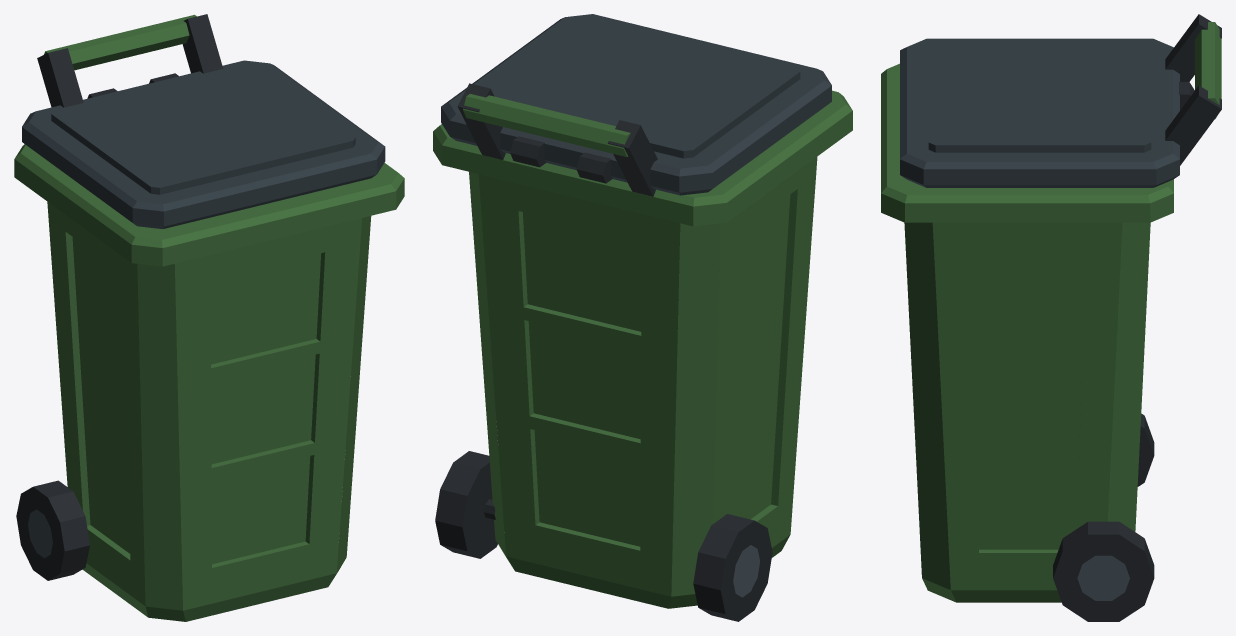
File: wheelie-bin.glb
3 views of the same model, side by side, from view 1: azimuth 30°, elevation 25°; view 2: azimuth 150°, elevation 25°; view 3: azimuth 270°, elevation 25° (orthographic). The views are drawn at different scales.
Visible parts, largest first — view 1: bin-body, lid-mesh, wheel-r-mesh; view 2: bin-body, lid-mesh, wheel-r-mesh, wheel-l-mesh; view 3: bin-body, lid-mesh, wheel-l-mesh, wheel-r-mesh.
Boxes of the visible parts, x1,y1,x2,y2 form: bin-body: [14, 14, 404, 621]; lid-mesh: [22, 60, 385, 228]; wheel-r-mesh: [16, 480, 89, 580]; bin-body: [433, 83, 852, 608]; lid-mesh: [441, 14, 831, 195]; wheel-r-mesh: [693, 514, 772, 621]; wheel-l-mesh: [435, 451, 497, 558]; bin-body: [881, 14, 1221, 602]; lid-mesh: [900, 38, 1194, 187]; wheel-l-mesh: [1053, 521, 1154, 621]; wheel-r-mesh: [1137, 413, 1154, 486].
Bounding box in the file's own units: 0.665 × 1.11 × 0.6862.
